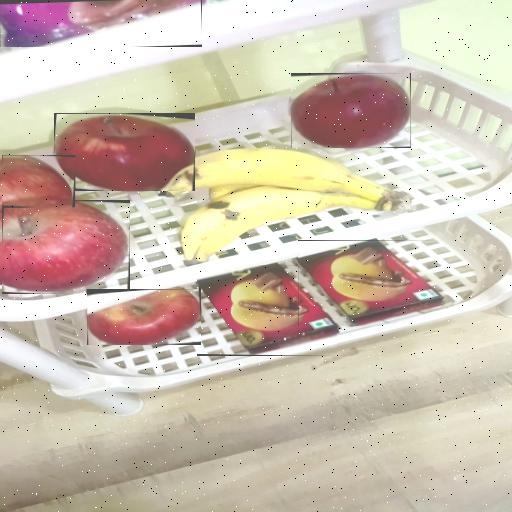Apple: (2, 200, 130, 294), (54, 113, 195, 191), (291, 73, 411, 148), (87, 289, 201, 345), (2, 155, 75, 207)
Choco Fills: (197, 265, 337, 356), (298, 240, 444, 326)
Choco Pie: (0, 0, 202, 47)
